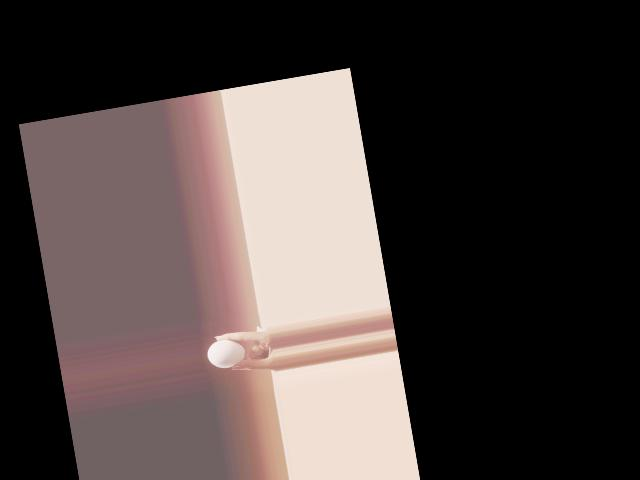egg: (206, 337, 248, 371)
